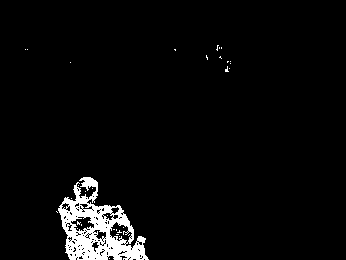person: (58, 176, 110, 260)
